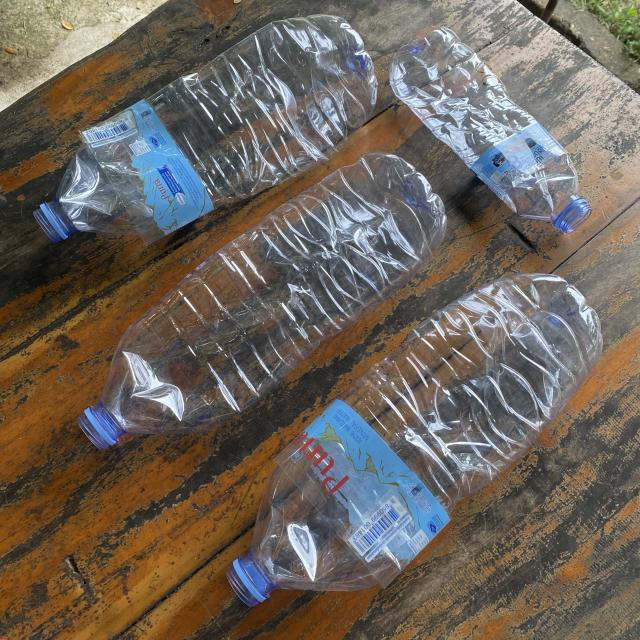plastik: (226, 274, 602, 606), (78, 154, 446, 449), (34, 15, 378, 244), (390, 28, 590, 232)
